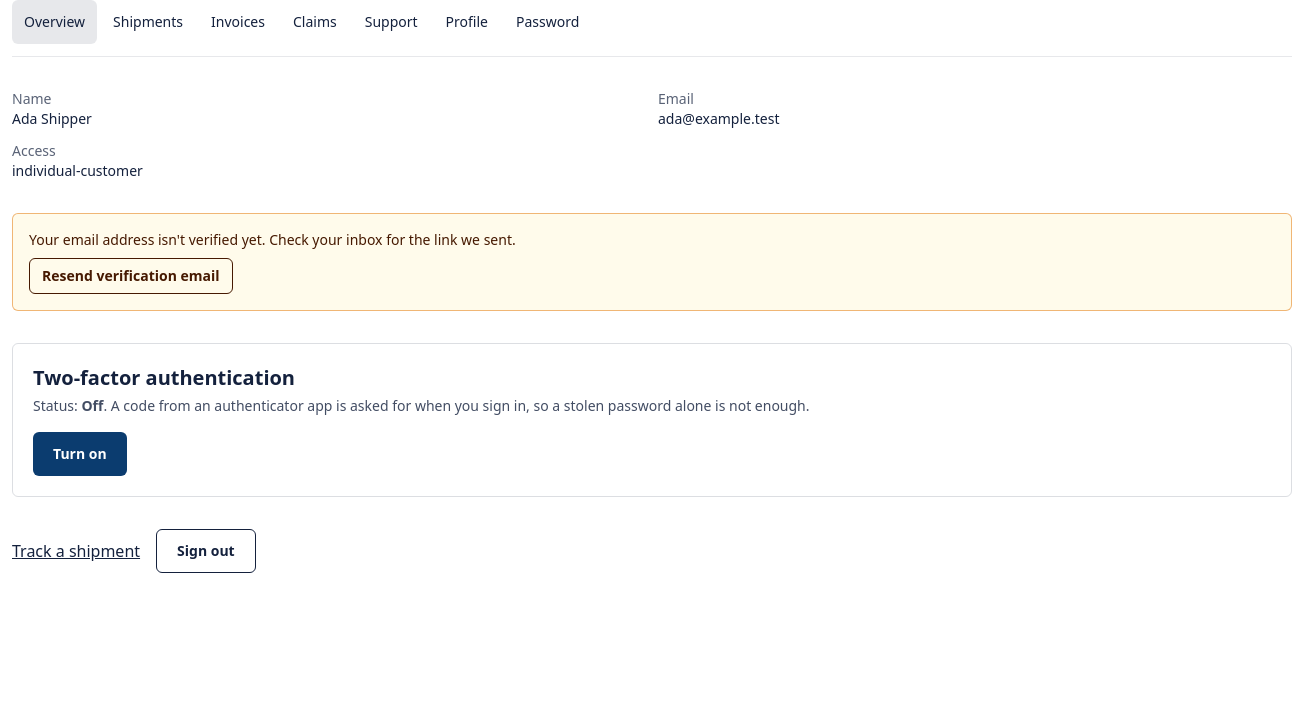
Test case: AccountView › lets an unverified person ask for the email again
Click the button "Resend verification email" at [131, 276], box [29,258,232,294]
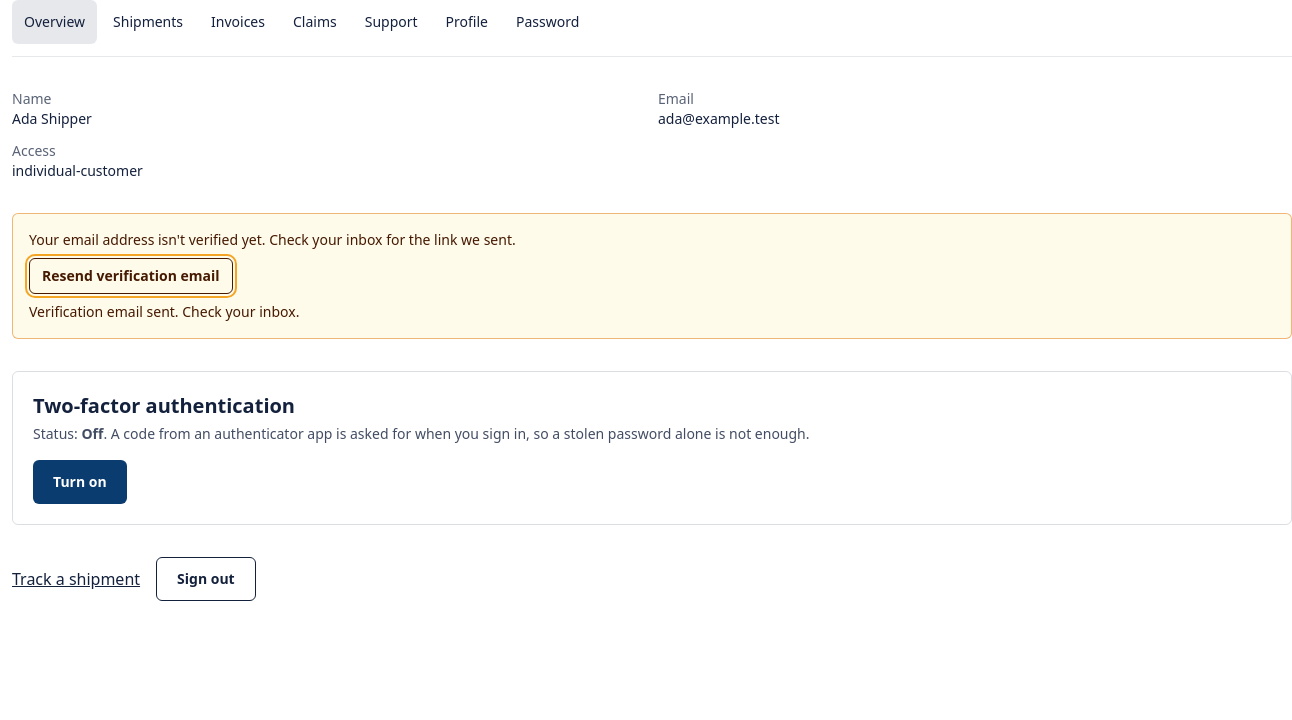
Check: the text "Verification email sent. Check your inbox." is shown, box [29,302,299,321]
